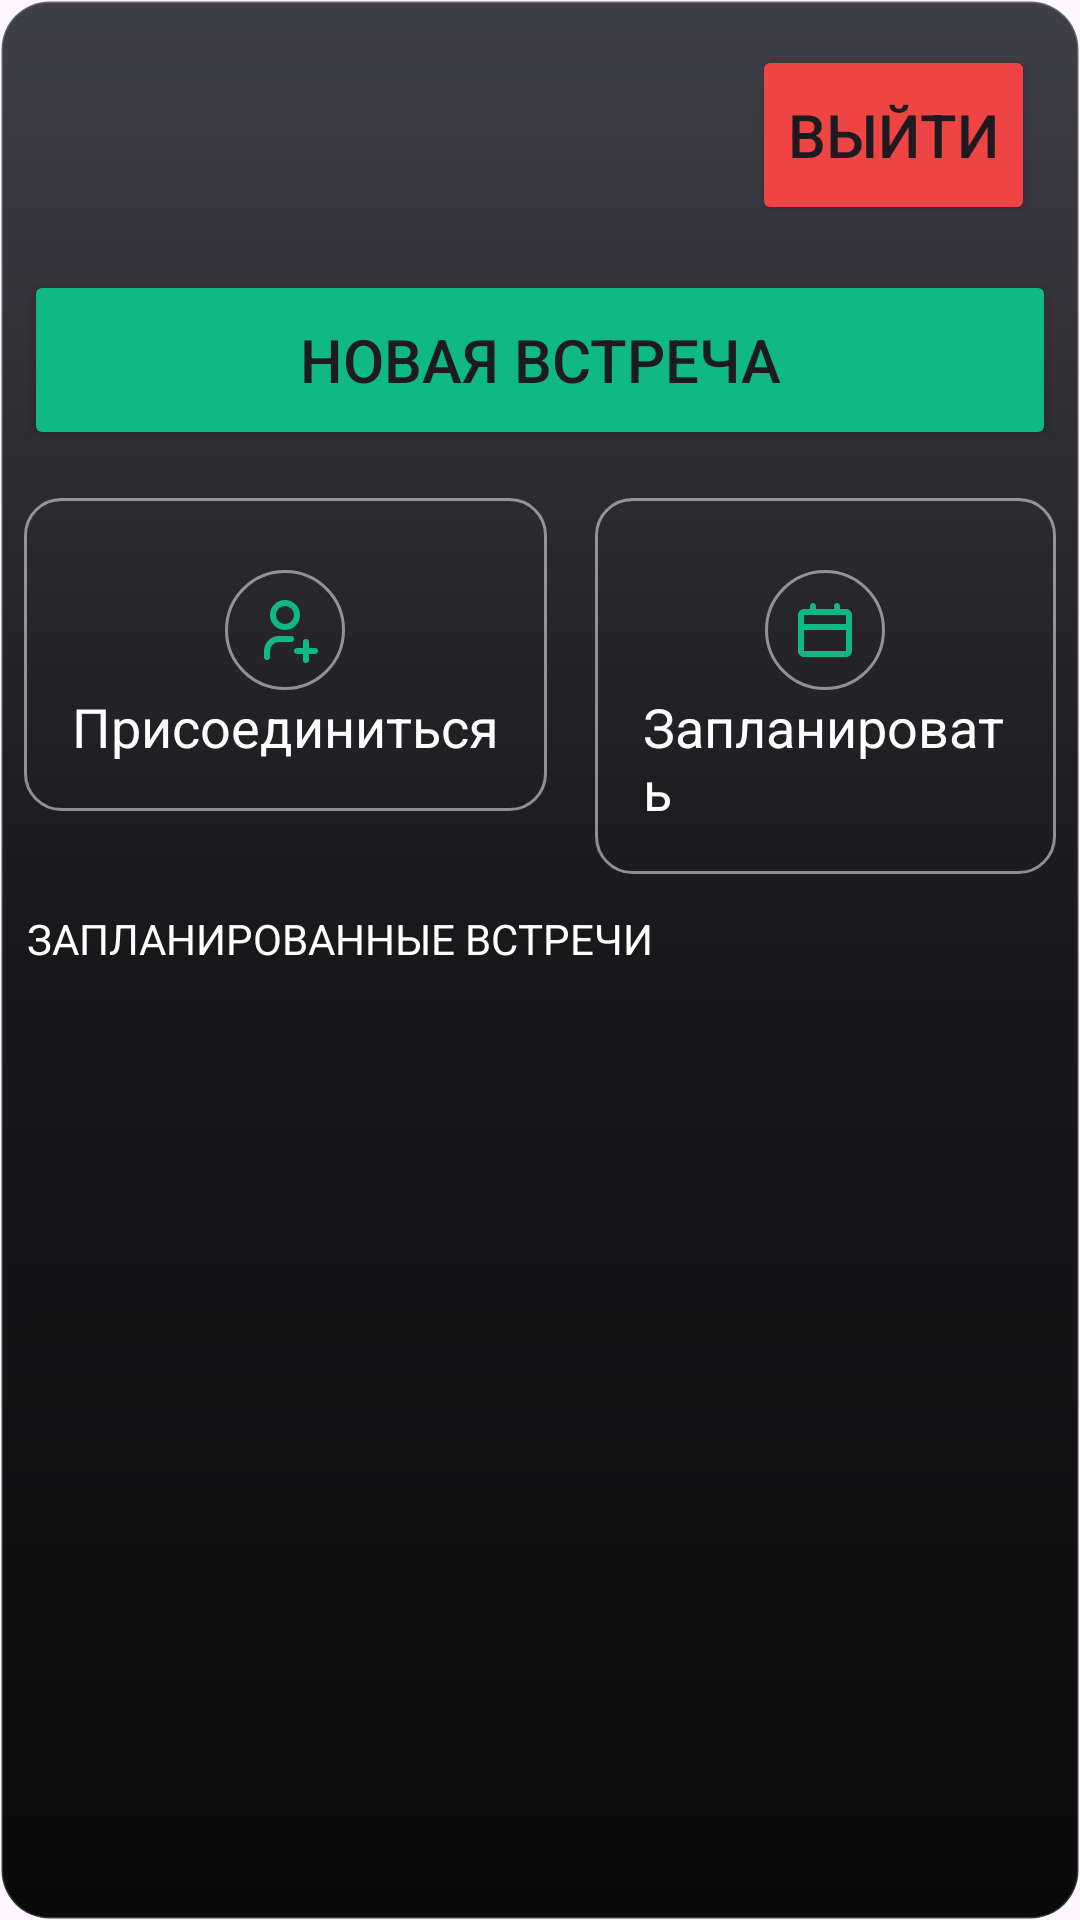

Locate icon controls on the screen. Image size 1080×1920, boxes as (left=x1, top=y1, right=x2, bottom=y2).
iconstack io calendar line: (left=765, top=570, right=885, bottom=690)
iconstack io user plus: (left=225, top=570, right=345, bottom=690)
